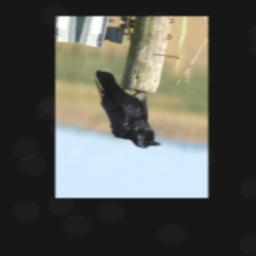Crow: (83, 68, 171, 151)
